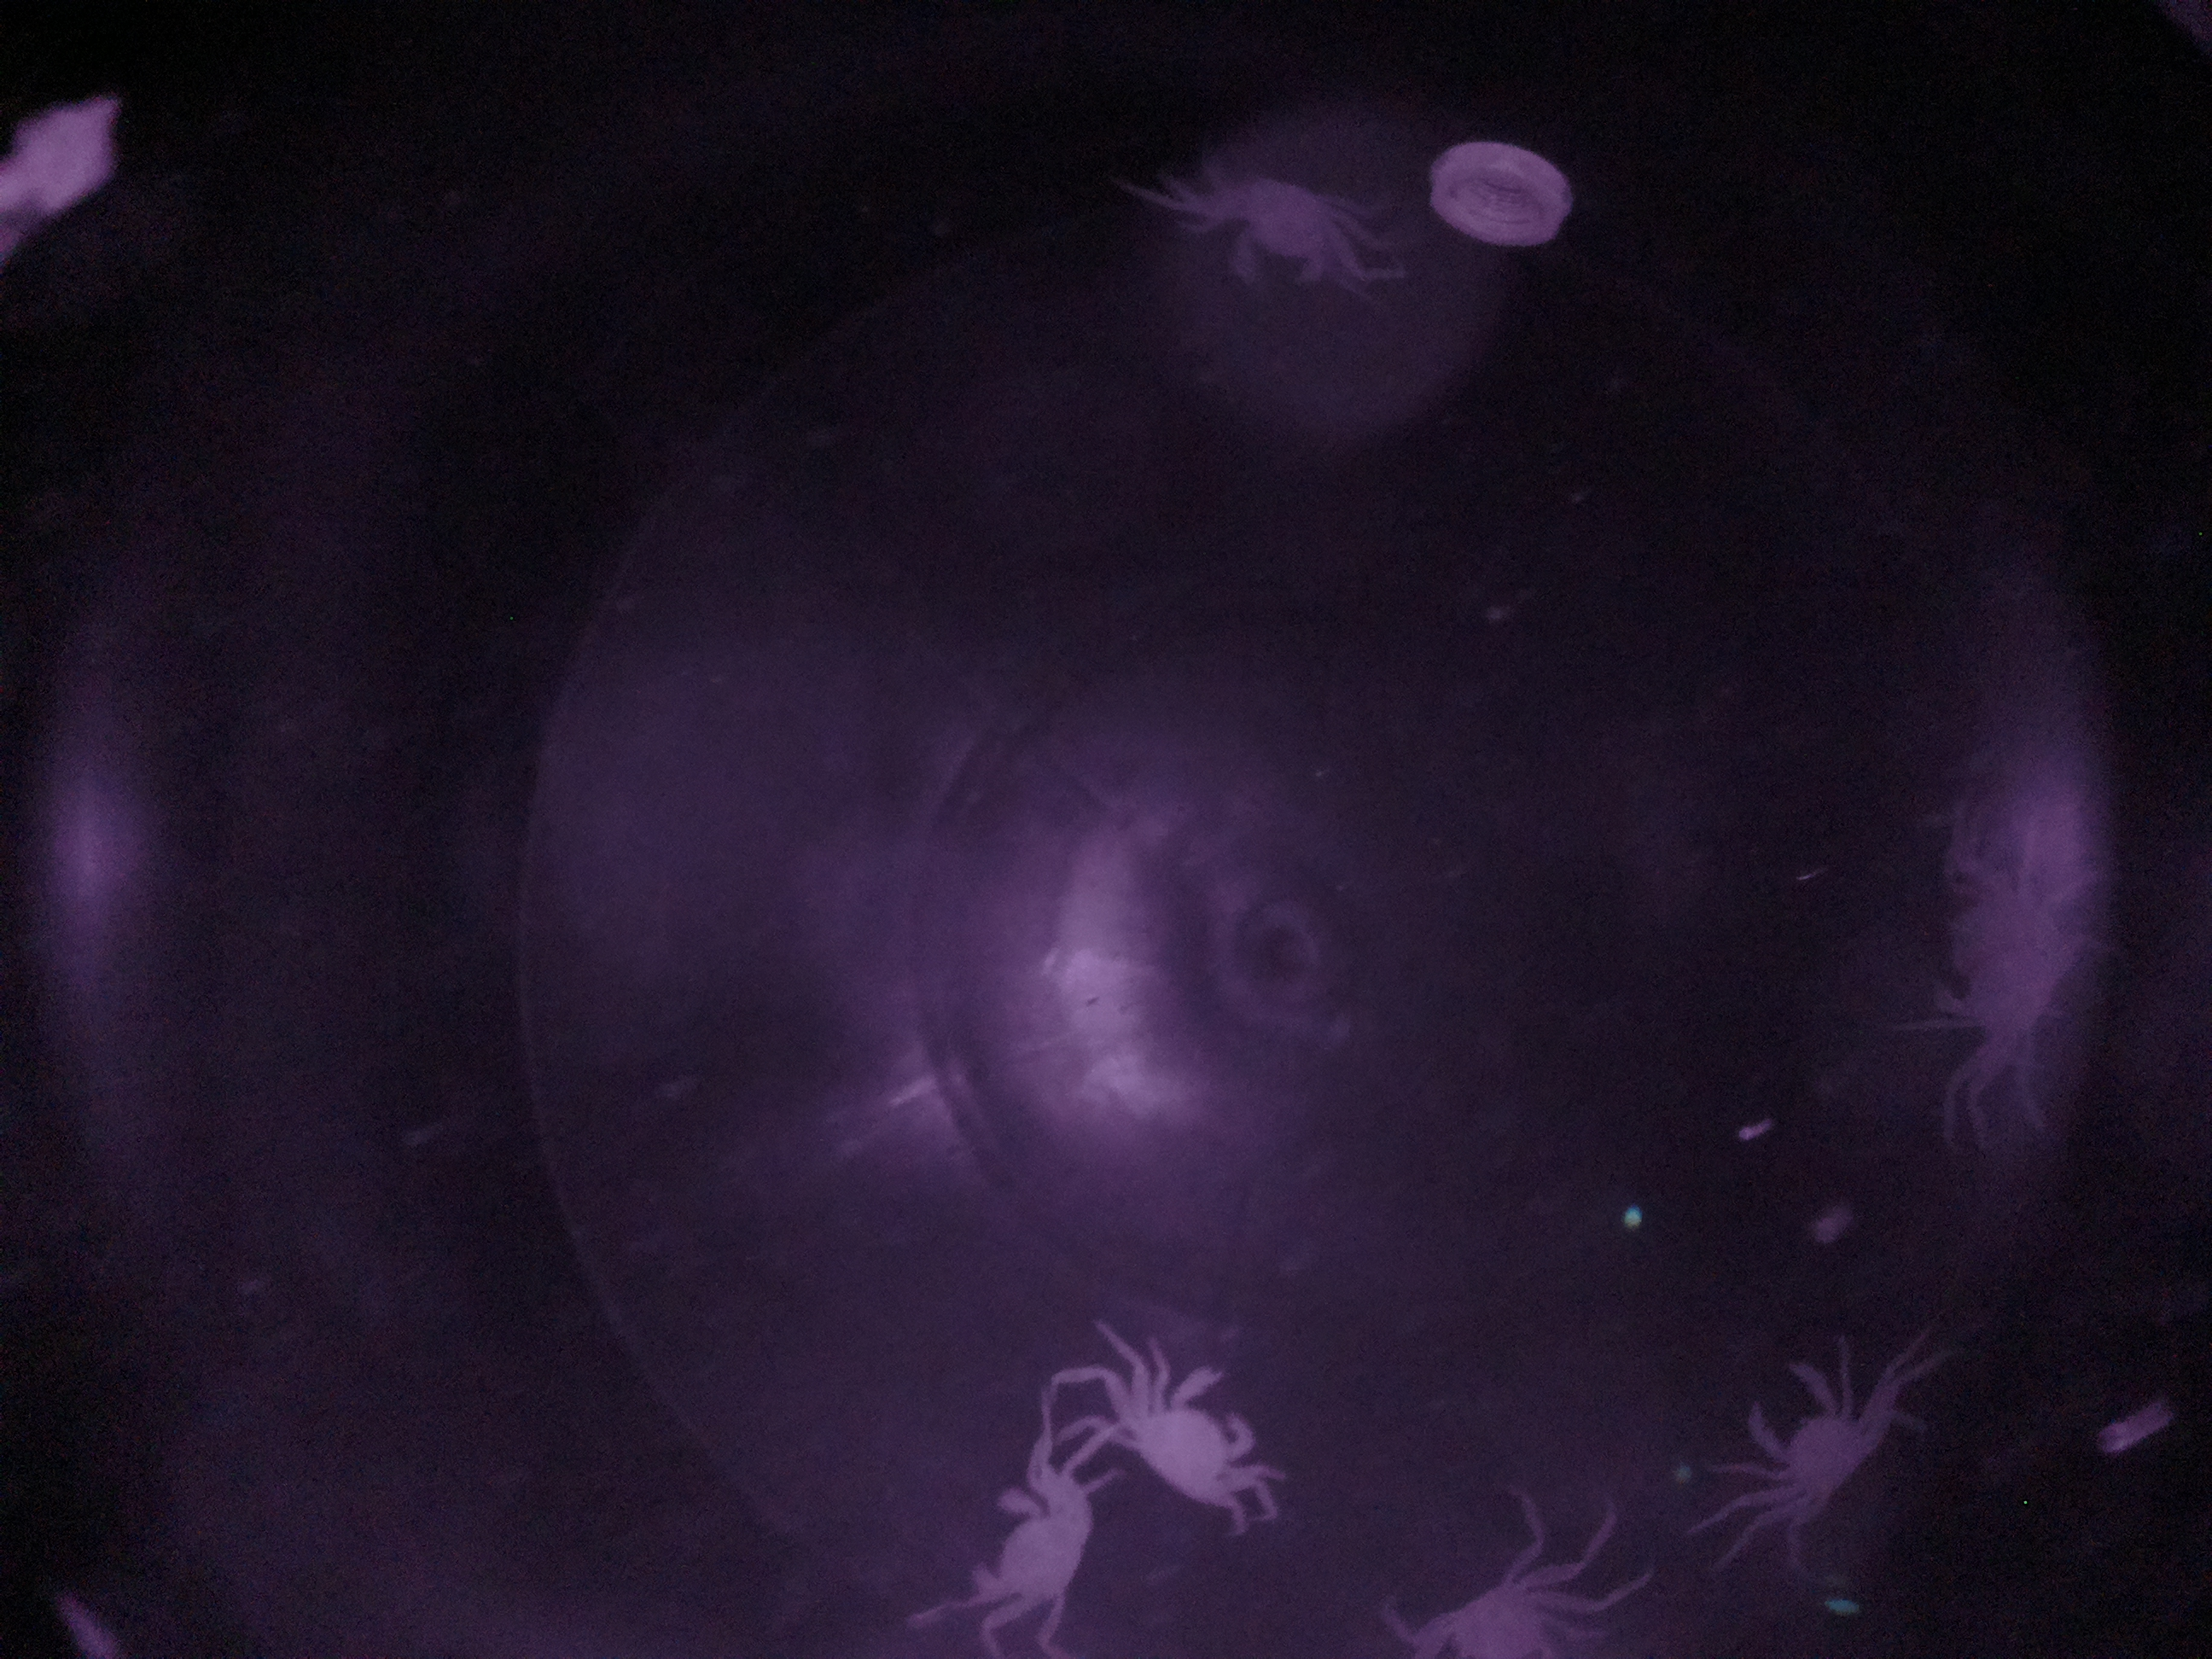Crab: (1167, 143, 1383, 314), (1717, 1342, 1895, 1546), (944, 1452, 1109, 1659), (1097, 1352, 1291, 1527)
